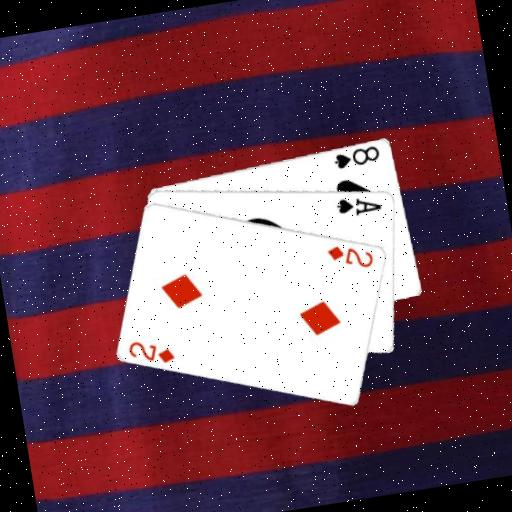2D: (124, 331, 177, 370), (324, 237, 377, 275)
8S: (329, 142, 382, 171)
AS: (332, 189, 384, 220)
